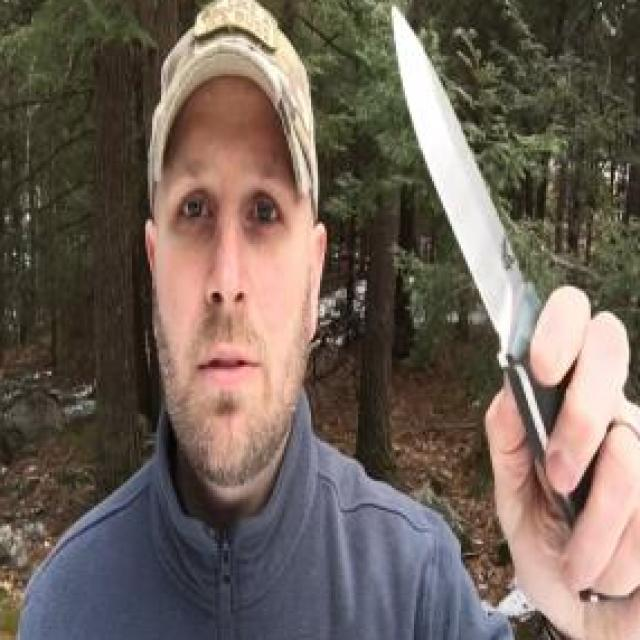knife: (385, 0, 613, 499)
